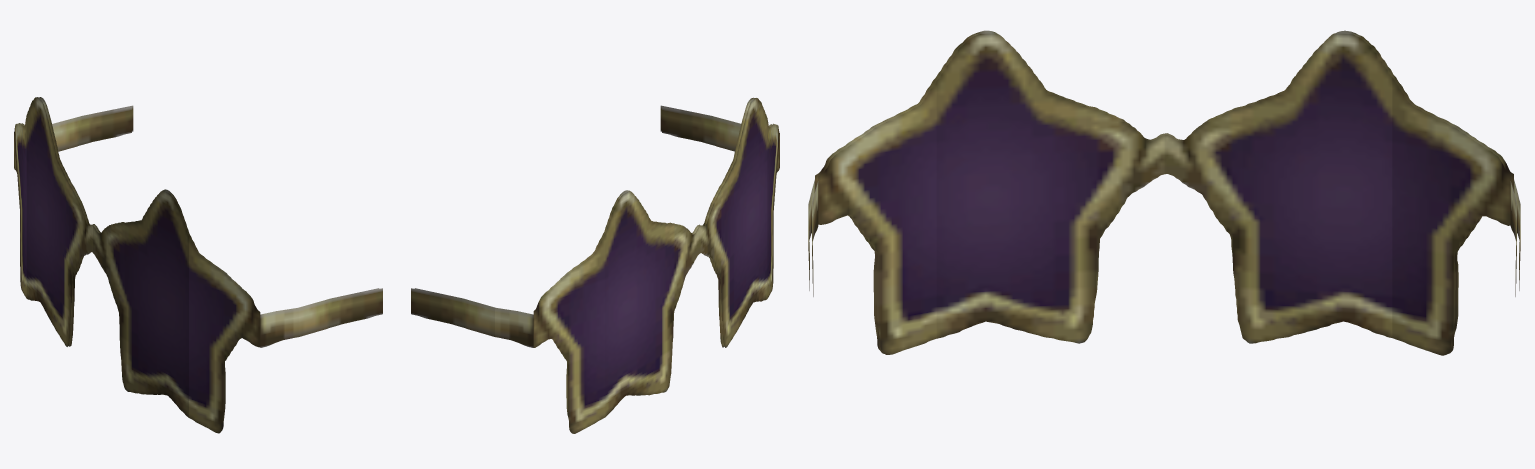
File: Wolf_starGlasses.obj
3 renders of one model, left to right at view 1: azimuth 30°, elevation 25°; view 2: azimuth 150°, elevation 25°; view 3: azimuth 270°, elevation 25°, orthographic. The views are drawn at different scales.
Visible parts, largest first — view 1: Wolf_starGlasses_tri; view 2: Wolf_starGlasses_tri; view 3: Wolf_starGlasses_tri.
Part boxes in pixels (box(x1,y1,x2,y2)): Wolf_starGlasses_tri: box(14, 97, 382, 433); Wolf_starGlasses_tri: box(411, 97, 779, 433); Wolf_starGlasses_tri: box(808, 30, 1520, 355).
Size of the model in its own units: 0.0646 by 0.0876 by 0.1702.
Materials: 1 (1 with a texture image).
